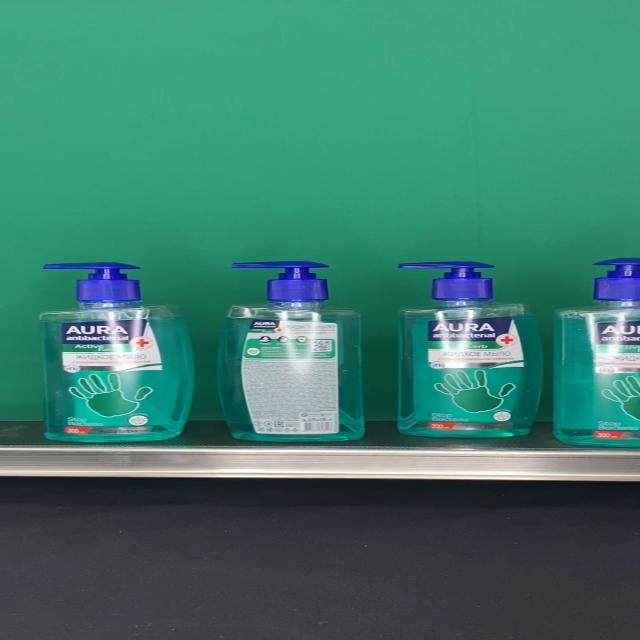Bottle: (38, 262, 195, 442), (219, 260, 366, 441), (397, 260, 543, 437)
Cap: (232, 260, 331, 302), (42, 262, 140, 302), (398, 261, 496, 301)
